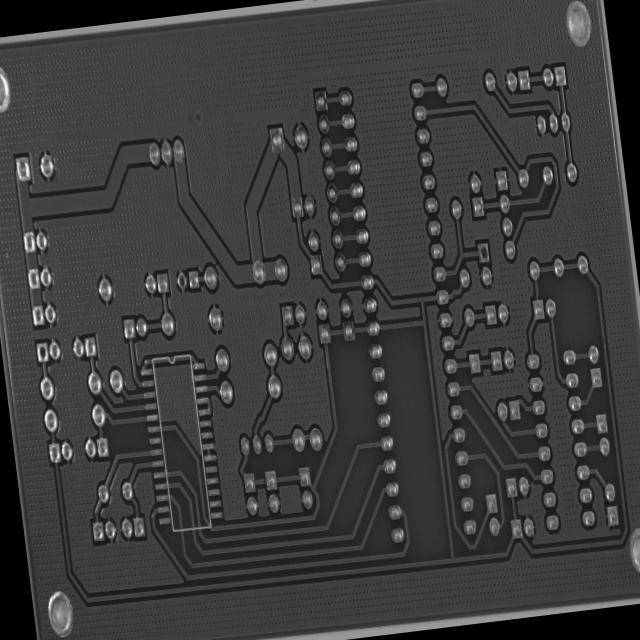missing_hole: (475, 237, 492, 267), (34, 336, 50, 362), (174, 267, 188, 291)
